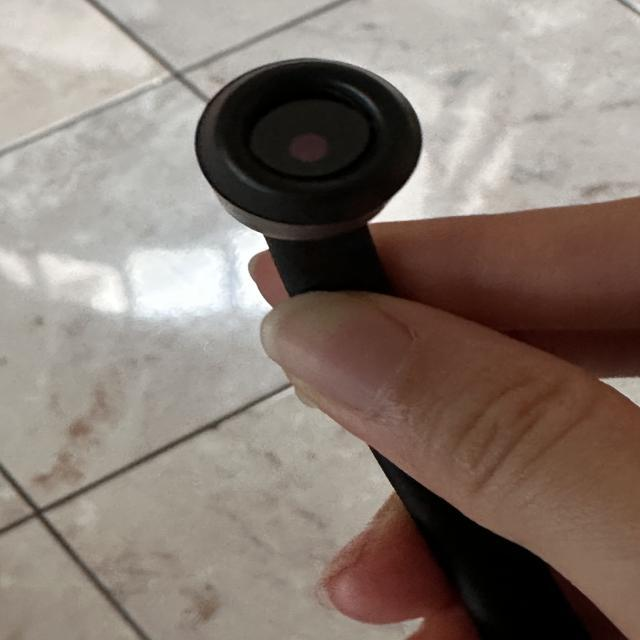hidden camera: (226, 72, 385, 185)
